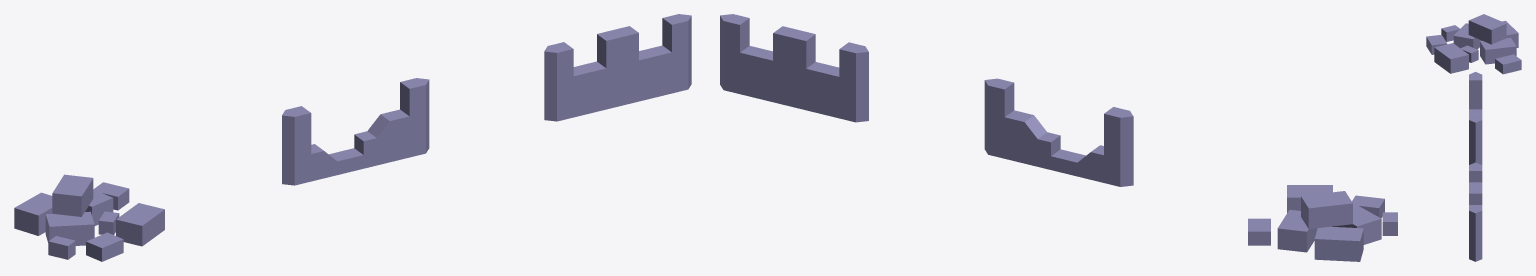
Rendered from Castle Blocks.fbx.
The picture shows the model from 3 angles, left to right: view 1: azimuth 30°, elevation 25°; view 2: azimuth 150°, elevation 25°; view 3: azimuth 270°, elevation 25°; orthographic projection. The views are drawn at different scales.
Parts seen in each view (by area): view 1: battlement, debris_stone, battlement_damaged; view 2: battlement, battlement_damaged, debris_stone; view 3: debris_stone, battlement, battlement_damaged.
Part boxes in pixels (x1,y1,x2,y2): battlement: (544, 14, 691, 121); debris_stone: (14, 174, 164, 261); battlement_damaged: (282, 78, 429, 185); battlement: (720, 14, 868, 122); battlement_damaged: (984, 78, 1133, 186); debris_stone: (1248, 185, 1397, 261); debris_stone: (1426, 14, 1521, 74); battlement: (1469, 162, 1482, 261); battlement_damaged: (1469, 72, 1482, 164).
Size of the model in its own units: 50.14 by 5 by 8.9.
